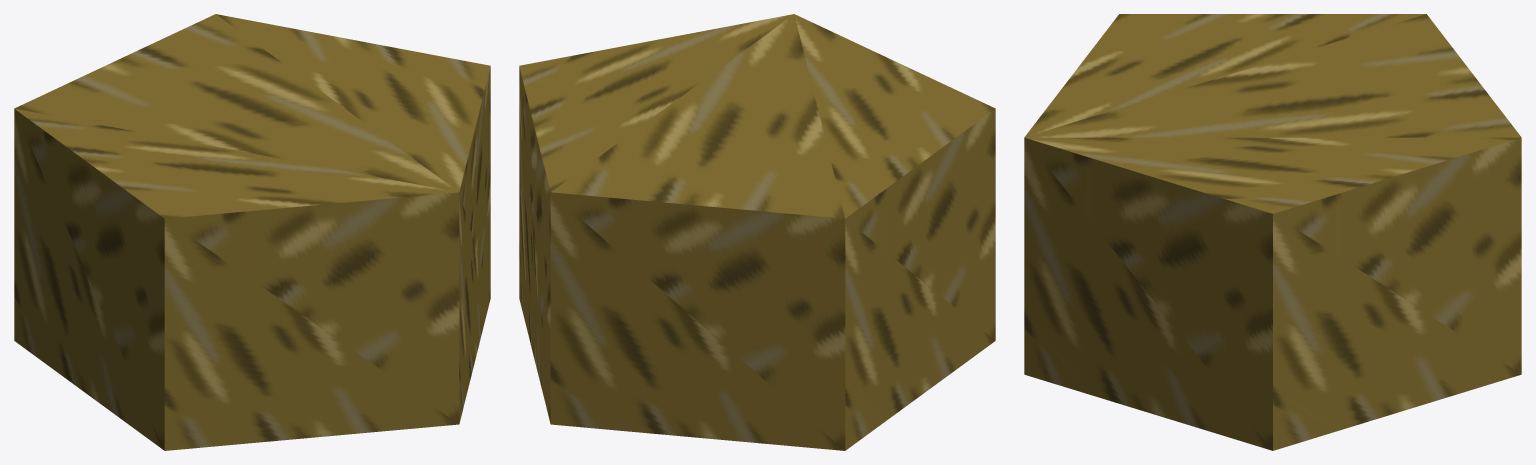
The model's file is woodPenta.obj.
The picture shows the model from 3 angles, left to right: view 1: azimuth 30°, elevation 25°; view 2: azimuth 150°, elevation 25°; view 3: azimuth 270°, elevation 25°; orthographic projection. The views are drawn at different scales.
Parts seen in each view (by area): view 1: pCylinder7; view 2: pCylinder7; view 3: pCylinder7.
Boxes of the visible parts, <box> form: pCylinder7: <box>14,14,490,450</box>; pCylinder7: <box>519,14,995,450</box>; pCylinder7: <box>1024,14,1521,450</box>.
Size of the model in its own units: 1.81 by 1 by 1.9.
Materials: 1 (1 with a texture image).
